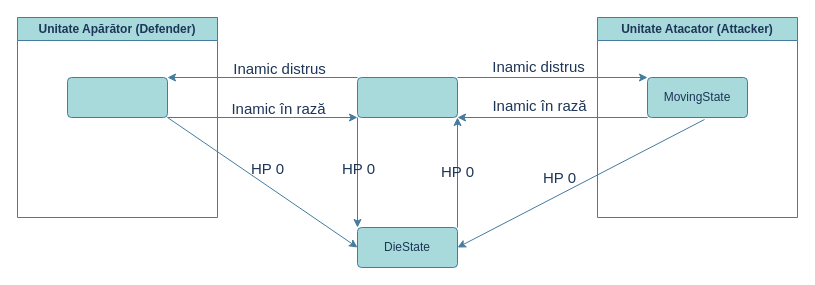
This 815x285 diagram has some shape labels left out. The shapes that lost their labels are listed below. From the top down, each one's box as (x1, y1, x2, y2) in pixels, then its label:
(66, 76, 168, 118): IdleState
(356, 76, 458, 118): AttackState
